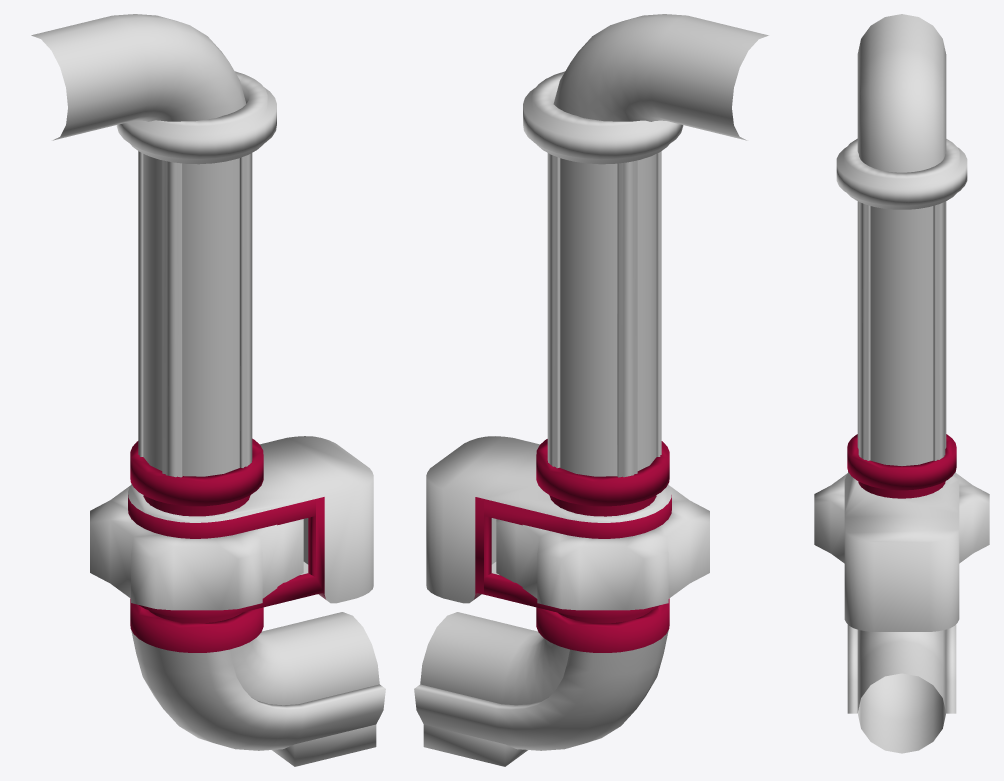
Rendered from Pipe2UpForwardInternalVariant.gltf.
3 views of the same model, side by side, from view 1: azimuth 30°, elevation 25°; view 2: azimuth 150°, elevation 25°; view 3: azimuth 270°, elevation 25° (orthographic). The views are drawn at different scales.
Visible parts, largest first — view 1: PipeBake_Pump_LOD0.007, PipeBake_2Up_Glas_LOD0.001, PipeBake_Upward_Solid1_LOD0.001, PipeBake_UpFoward_Glas_LOD0.007, PipeBake_Rotator_LOD0.007, PipeBake_SolidIn_Layer0_LOD0.004, PipeBake_ForwardUp_Glas_LOD0.007; view 2: PipeBake_Pump_LOD0.007, PipeBake_2Up_Glas_LOD0.001, PipeBake_Upward_Solid1_LOD0.001, PipeBake_UpFoward_Glas_LOD0.007, PipeBake_Rotator_LOD0.007, PipeBake_SolidIn_Layer0_LOD0.004, PipeBake_ForwardUp_Glas_LOD0.007; view 3: PipeBake_Pump_LOD0.007, PipeBake_2Up_Glas_LOD0.001, PipeBake_UpFoward_Glas_LOD0.007, PipeBake_Upward_Solid1_LOD0.001, PipeBake_SolidIn_Layer0_LOD0.004, PipeBake_ForwardUp_Glas_LOD0.007, PipeBake_Rotator_LOD0.007.
Boxes of the visible parts, x1,y1,x2,y2 form: PipeBake_Pump_LOD0.007: (128,436,373,652); PipeBake_2Up_Glas_LOD0.001: (143,154,239,476); PipeBake_Upward_Solid1_LOD0.001: (116,71,276,477); PipeBake_UpFoward_Glas_LOD0.007: (31,14,246,140); PipeBake_Rotator_LOD0.007: (90,483,303,610); PipeBake_SolidIn_Layer0_LOD0.004: (131,630,385,766); PipeBake_ForwardUp_Glas_LOD0.007: (157,612,379,705); PipeBake_Pump_LOD0.007: (426,436,671,652); PipeBake_2Up_Glas_LOD0.001: (560,154,656,476); PipeBake_Upward_Solid1_LOD0.001: (523,71,683,477); PipeBake_UpFoward_Glas_LOD0.007: (553,14,768,140); PipeBake_Rotator_LOD0.007: (496,483,709,610); PipeBake_SolidIn_Layer0_LOD0.004: (414,630,668,766); PipeBake_ForwardUp_Glas_LOD0.007: (420,612,642,705); PipeBake_Pump_LOD0.007: (844,434,959,631); PipeBake_2Up_Glas_LOD0.001: (857,201,946,465); PipeBake_UpFoward_Glas_LOD0.007: (857,14,946,172); PipeBake_Upward_Solid1_LOD0.001: (836,138,967,460); PipeBake_SolidIn_Layer0_LOD0.004: (847,624,956,753); PipeBake_ForwardUp_Glas_LOD0.007: (857,629,946,712); PipeBake_Rotator_LOD0.007: (814,471,989,563).
Bounding box in the file's own units: 1 × 2.35 × 0.5946.
